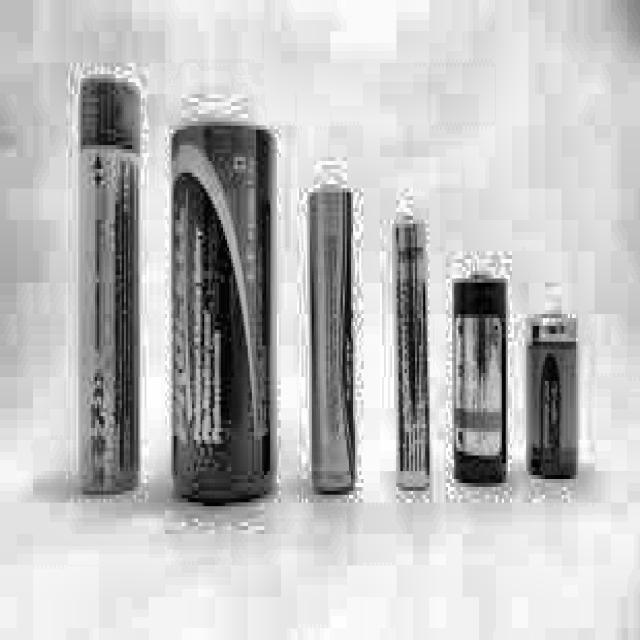Battery: (173, 126, 274, 507), (82, 86, 144, 502), (312, 192, 353, 495), (454, 271, 506, 483), (394, 216, 432, 479), (522, 318, 580, 479)
